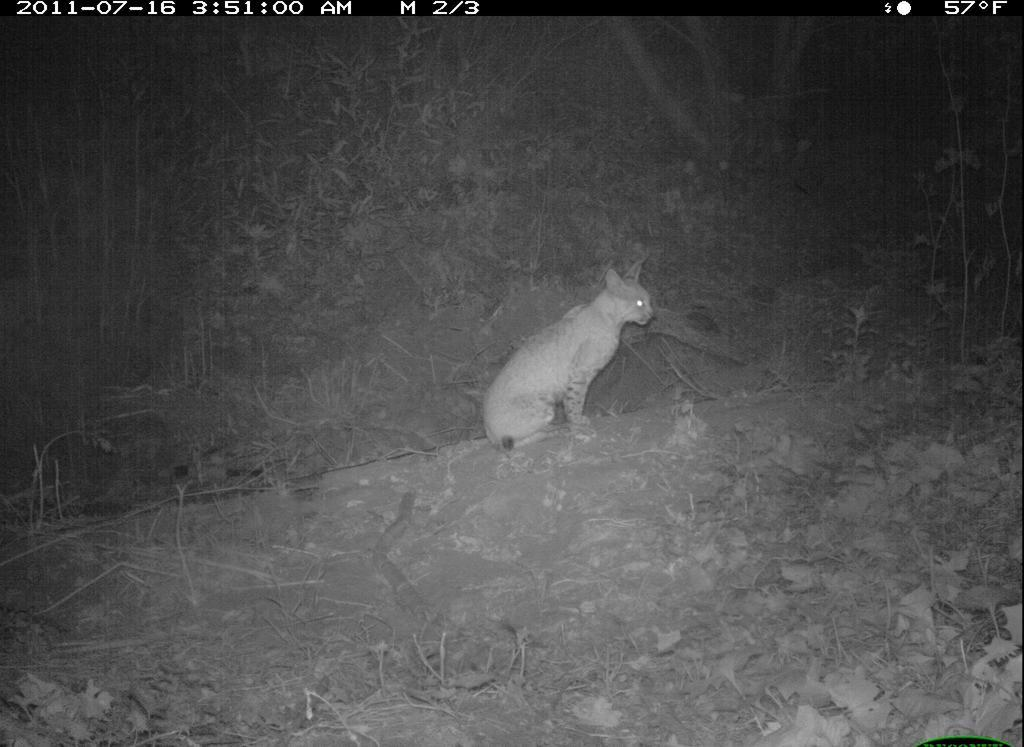bobcat: (460, 249, 699, 472)
